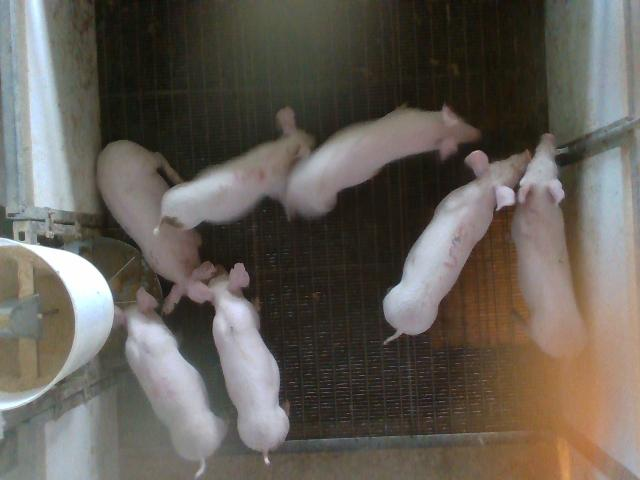pig-3: (384, 151, 530, 343)
pig-4: (114, 288, 226, 477)
pig-5: (161, 108, 314, 229)
